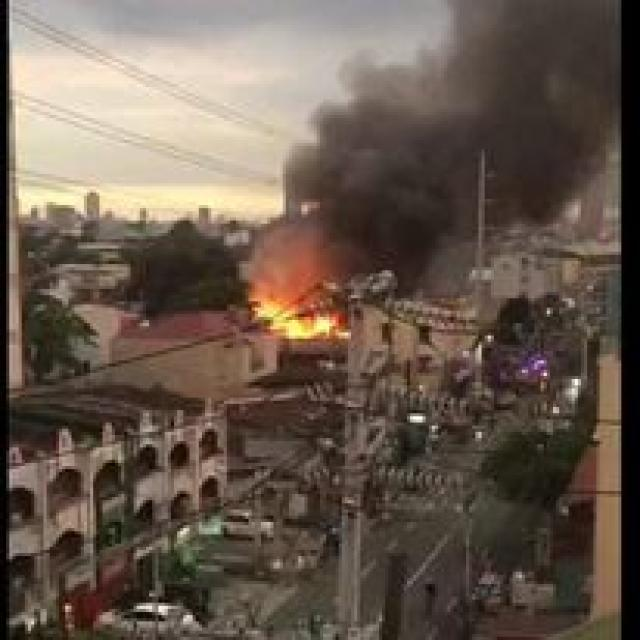Fire: (241, 274, 344, 346)
Smoke: (264, 0, 622, 262)
